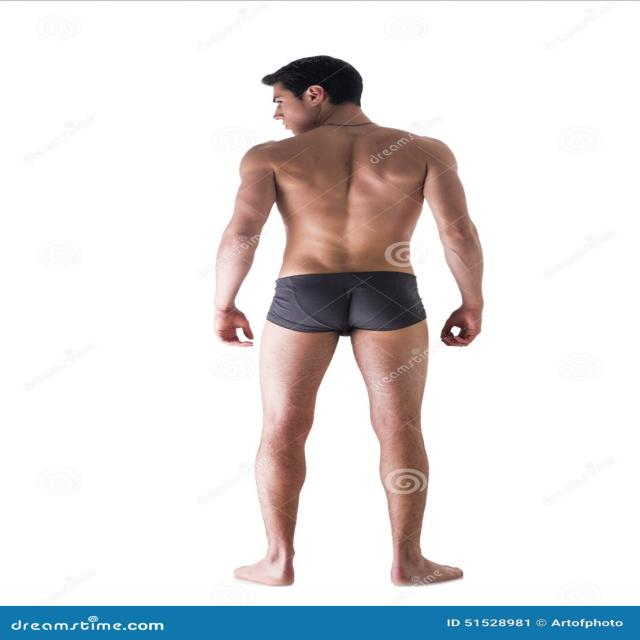adult: (208, 55, 487, 587)
